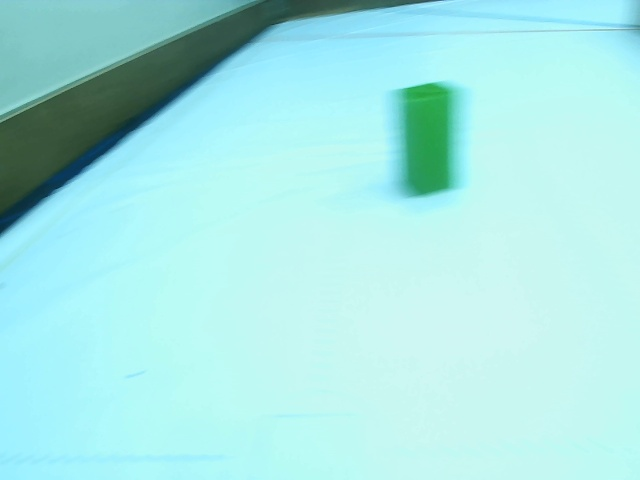green: (393, 81, 457, 204)
